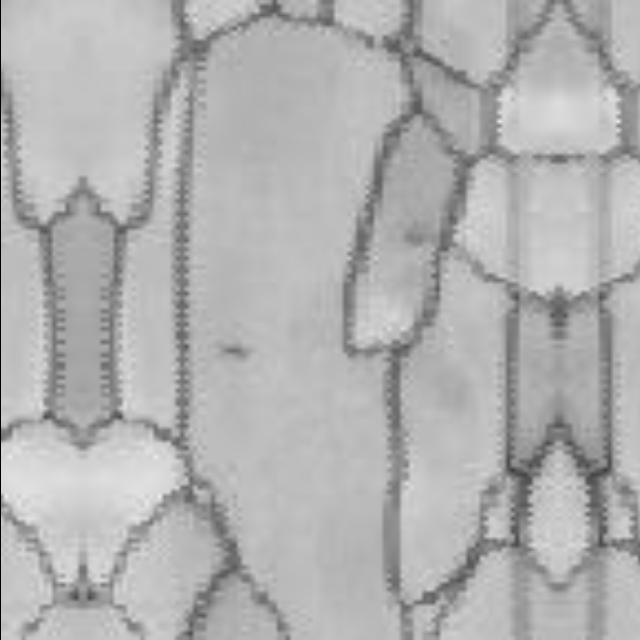good_void: (216, 341, 251, 360)
